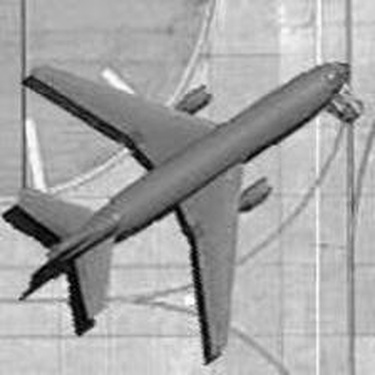airplane: (10, 50, 366, 366)
